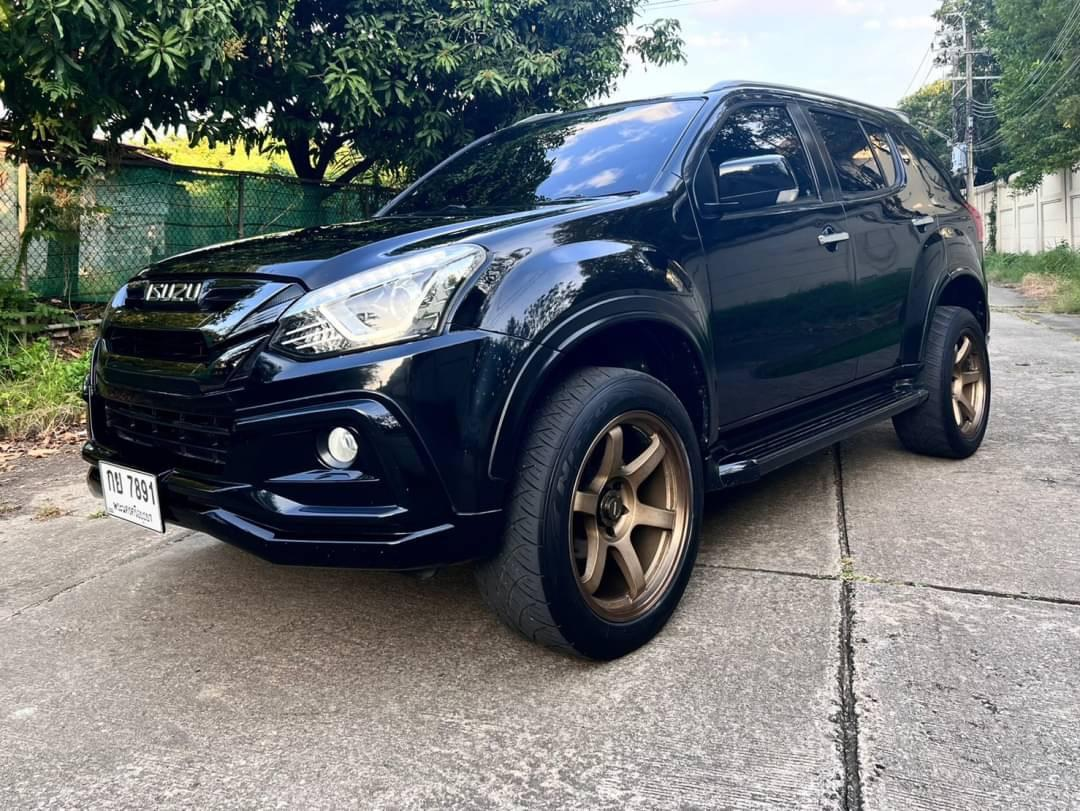license-plate: (87, 446, 181, 557)
